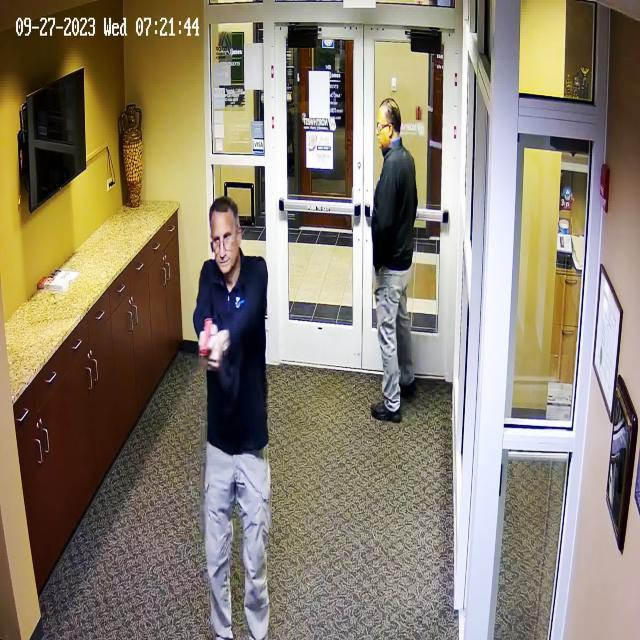Gun: (192, 307, 230, 368)
